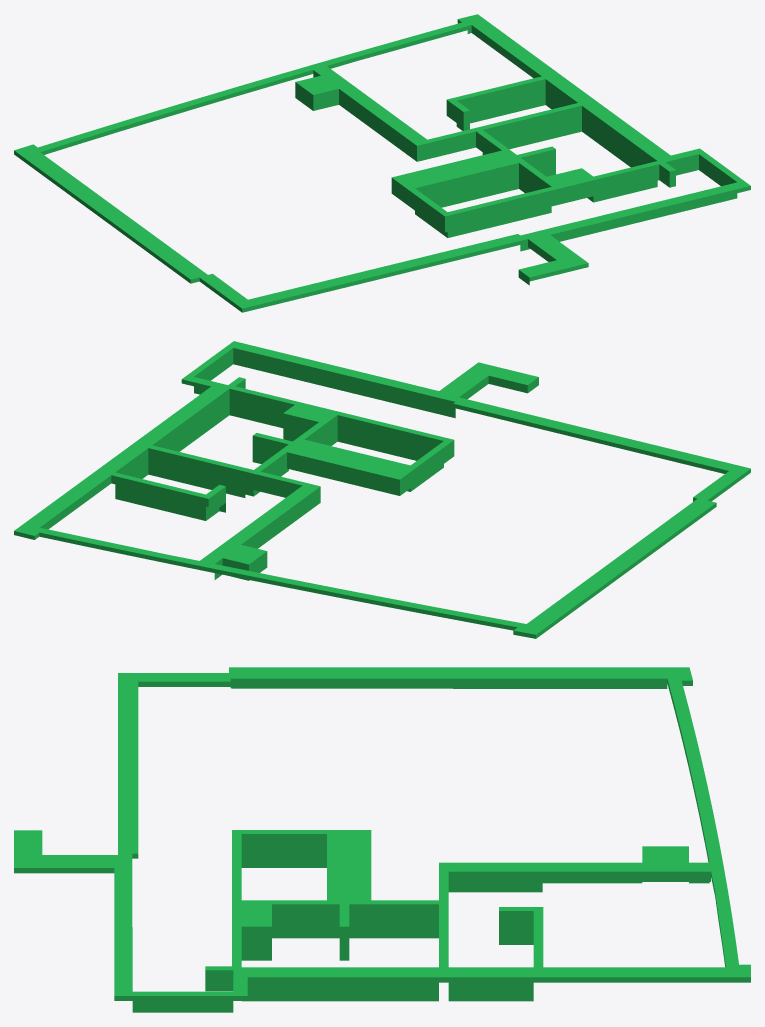
File: Wall_Cap.FBX
The picture shows the model from 3 angles, top to bottom: view 1: azimuth 30°, elevation 25°; view 2: azimuth 150°, elevation 25°; view 3: azimuth 270°, elevation 25°; orthographic projection. The views are drawn at different scales.
Parts seen in each view (by area): view 1: Wall_Cap; view 2: Wall_Cap; view 3: Wall_Cap.
Boxes of the visible parts, x1,y1,x2,y2 form: Wall_Cap: [14, 14, 750, 312]; Wall_Cap: [14, 341, 750, 638]; Wall_Cap: [14, 667, 750, 1012].
Bounding box in the file's own units: 13.55 × 0.6516 × 12.85.
